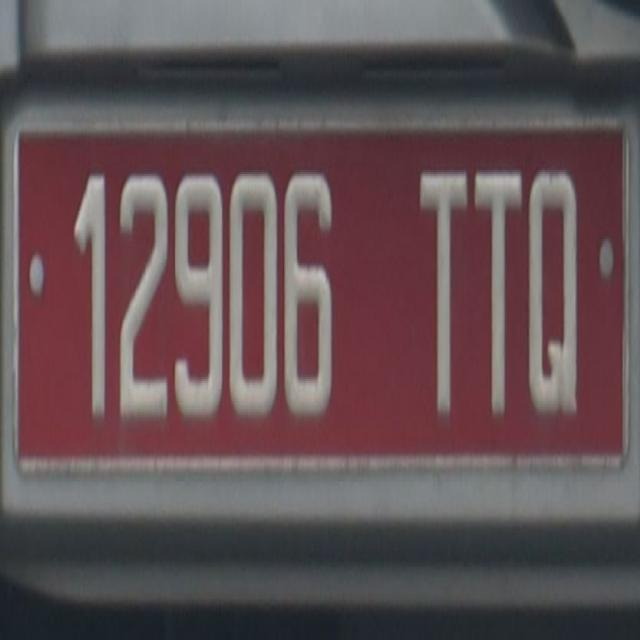licenseplate: (6, 61, 636, 532)
